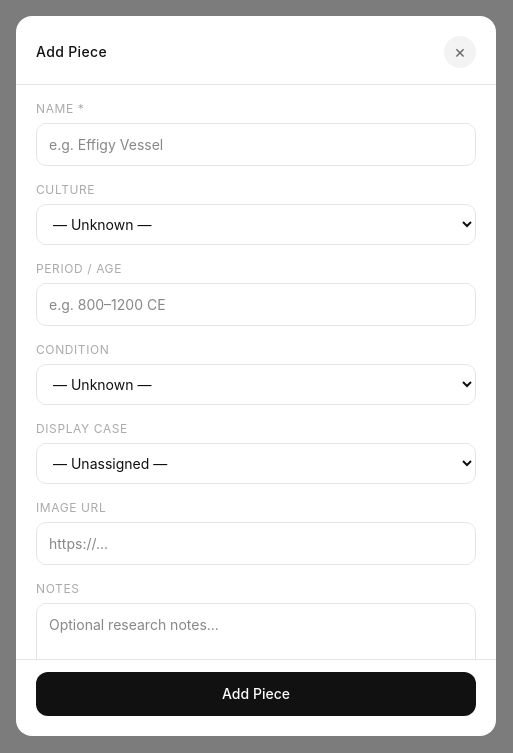
Test: PieceModal › requires a name before submitting in add mode
The width and height of the screenshot is (513, 753).
Click the button "Add Piece". click: (256, 694)
box: [36,672,476,716]
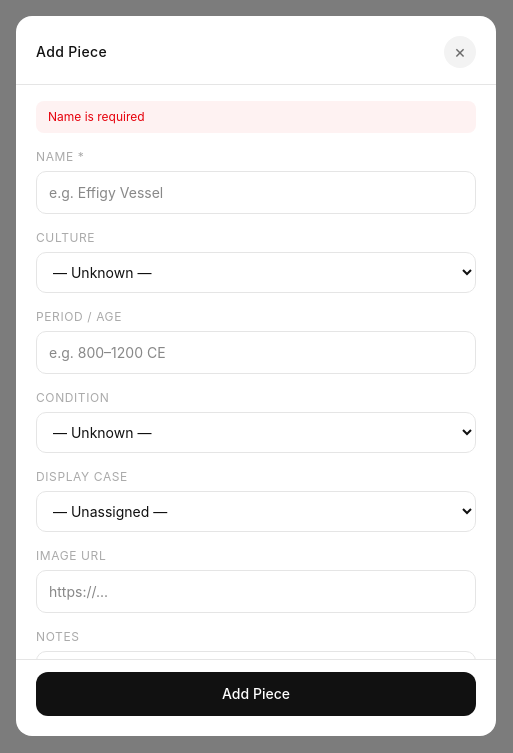
Check: the text "Name is required" is shown, box [36,101,476,133]
